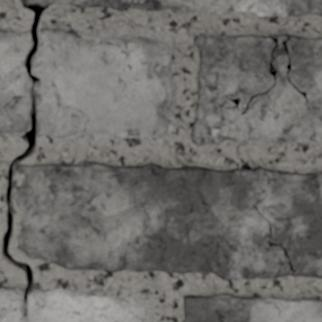brick: (13, 162, 321, 278), (192, 35, 321, 144), (22, 0, 321, 16), (184, 294, 321, 321), (274, 35, 286, 44)
broken_brick: (33, 28, 172, 139), (0, 286, 151, 321), (0, 29, 30, 133)
crack: (0, 2, 47, 319), (225, 34, 311, 115), (252, 204, 297, 276), (102, 127, 106, 131)
